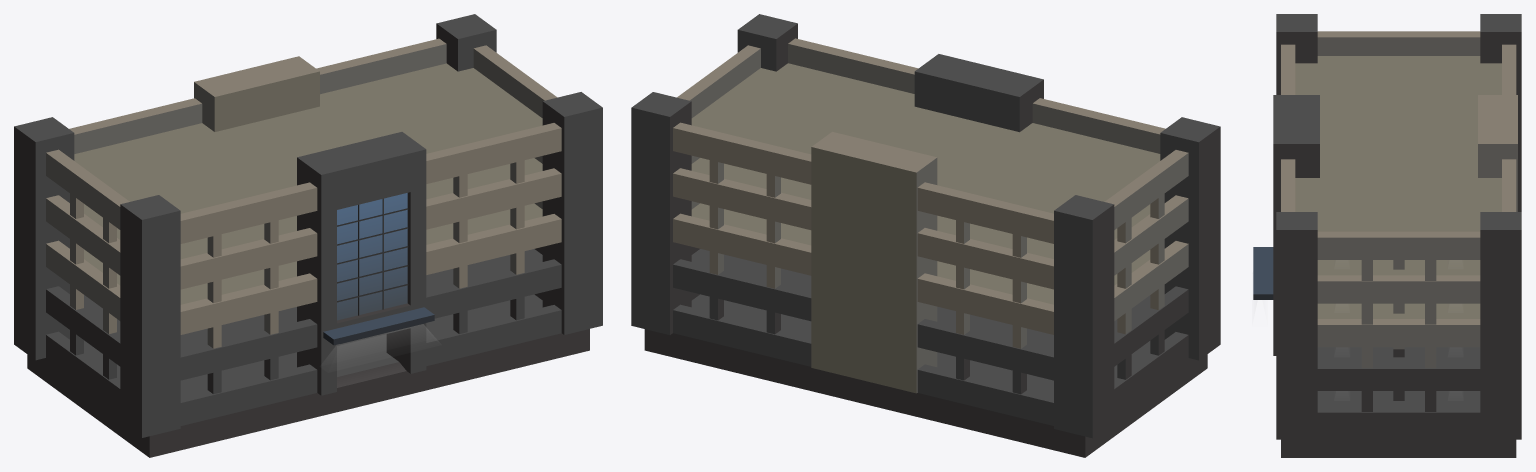
Rendered from buildings-business-parkingstructure_v1.glb.
3 views of the same model, side by side, from view 1: azimuth 30°, elevation 25°; view 2: azimuth 150°, elevation 25°; view 3: azimuth 270°, elevation 25° (orthographic). The views are drawn at different scales.
Visible parts, largest first — view 1: ParkingStructure_base, ParkingStructure_windowRefl; view 2: ParkingStructure_base; view 3: ParkingStructure_base.
Part boxes in pixels (x1,y1,x2,y2): ParkingStructure_base: (14,14,602,457); ParkingStructure_windowRefl: (337,193,407,320); ParkingStructure_base: (631,14,1220,457); ParkingStructure_base: (1253,14,1521,457).
Size of the model in its own units: 48.36 by 24.56 by 25.77.
